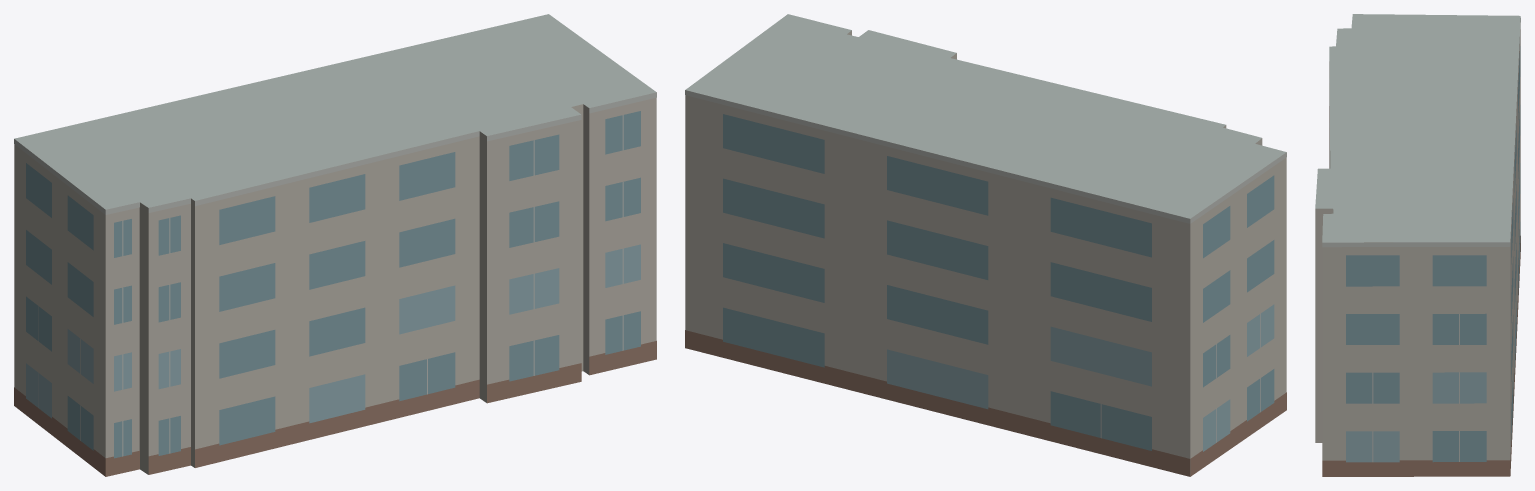
The model's file is survey-upis-32769325.glb.
3 renders of one model, left to right at view 1: azimuth 30°, elevation 25°; view 2: azimuth 150°, elevation 25°; view 3: azimuth 270°, elevation 25°, orthographic. The views are drawn at different scales.
Parts seen in each view (by area): view 1: survey-upis-32769325.tmp; view 2: survey-upis-32769325.tmp; view 3: survey-upis-32769325.tmp.
Boxes of the visible parts, x1,y1,x2,y2 form: survey-upis-32769325.tmp: (14, 14, 656, 476); survey-upis-32769325.tmp: (685, 14, 1286, 476); survey-upis-32769325.tmp: (1315, 14, 1520, 476).
Bounding box in the file's own units: 25.73 × 12.3 × 9.79.
